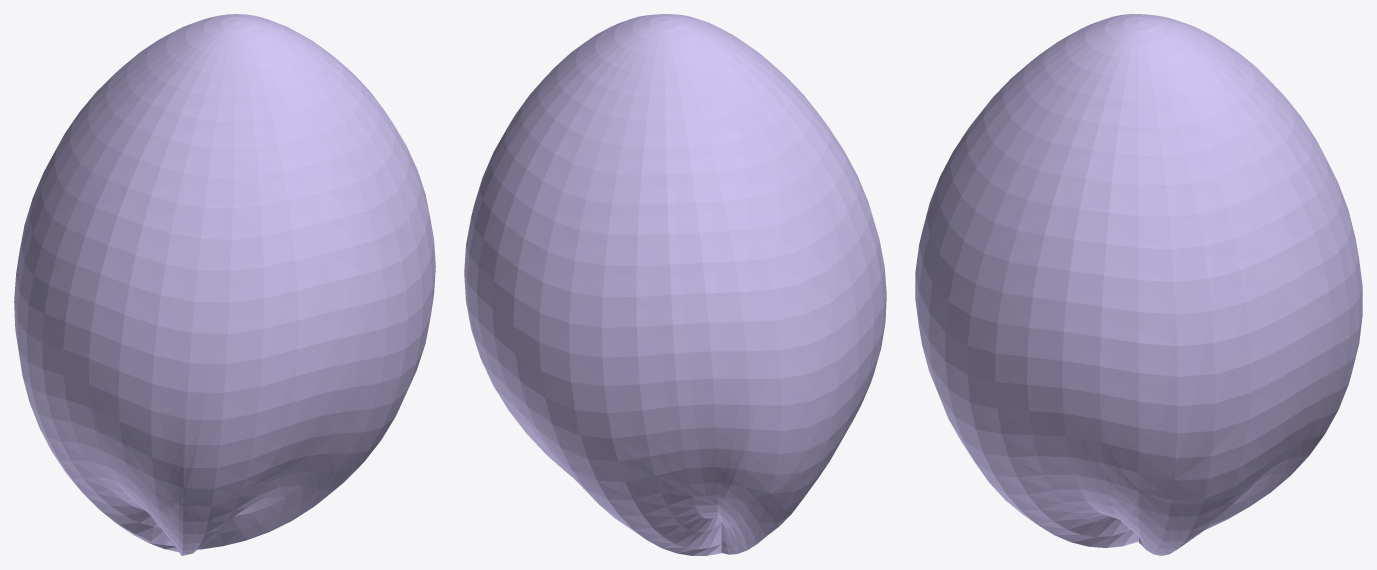
File: 04_glowing_ghost.obj
3 views of the same model, side by side, from view 1: azimuth 30°, elevation 25°; view 2: azimuth 150°, elevation 25°; view 3: azimuth 270°, elevation 25° (orthographic). The views are drawn at different scales.
Parts seen in each view (by area): view 1: Floating_Ghost; view 2: Floating_Ghost; view 3: Floating_Ghost.
Boxes of the visible parts, x1,y1,x2,y2 form: Floating_Ghost: (14, 14, 435, 555); Floating_Ghost: (464, 14, 886, 555); Floating_Ghost: (915, 14, 1362, 555).
Size of the model in its own units: 1.79 by 2.42 by 1.78.
